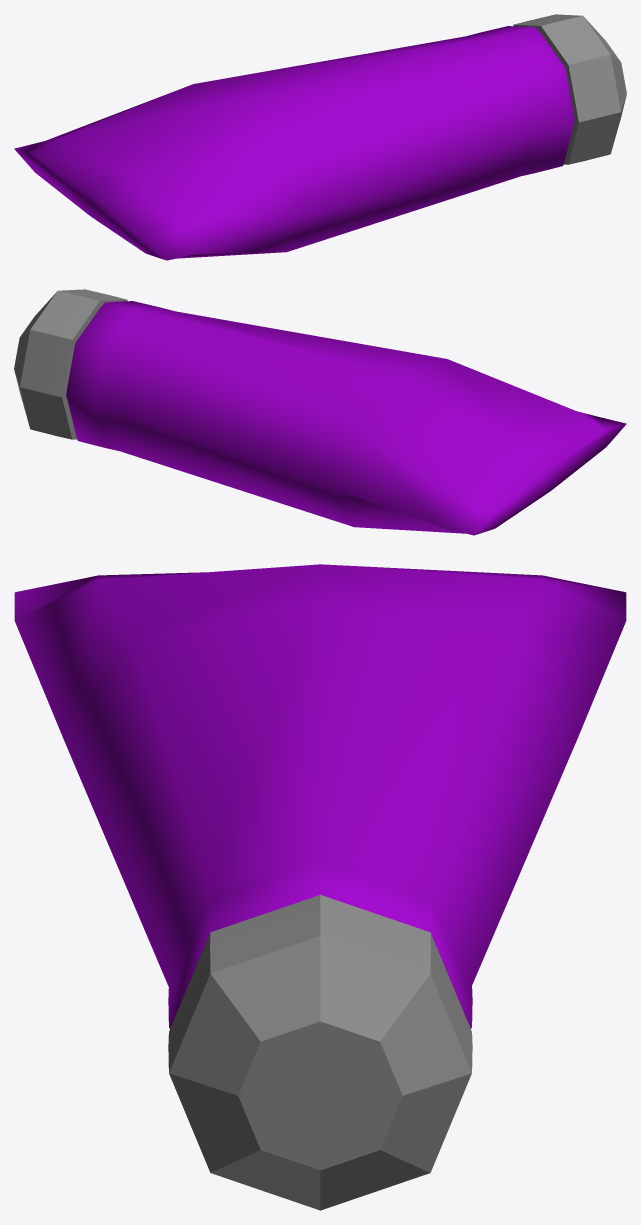
File: Soylent.glb
The picture shows the model from 3 angles, top to bottom: view 1: azimuth 30°, elevation 25°; view 2: azimuth 150°, elevation 25°; view 3: azimuth 270°, elevation 25°; orthographic projection. The views are drawn at different scales.
Visible parts, largest first — view 1: SoylentTube, SoylentTop; view 2: SoylentTube, SoylentTop; view 3: SoylentTube, SoylentTop.
Boxes of the visible parts, bbox=[...] form: SoylentTube: bbox=[14, 26, 574, 260]; SoylentTop: bbox=[513, 14, 626, 164]; SoylentTube: bbox=[66, 301, 626, 535]; SoylentTop: bbox=[14, 289, 127, 439]; SoylentTube: bbox=[14, 564, 626, 1028]; SoylentTop: bbox=[168, 895, 472, 1210].
Bounding box in the file's own units: 3.8 × 0.9707 × 1.95.
